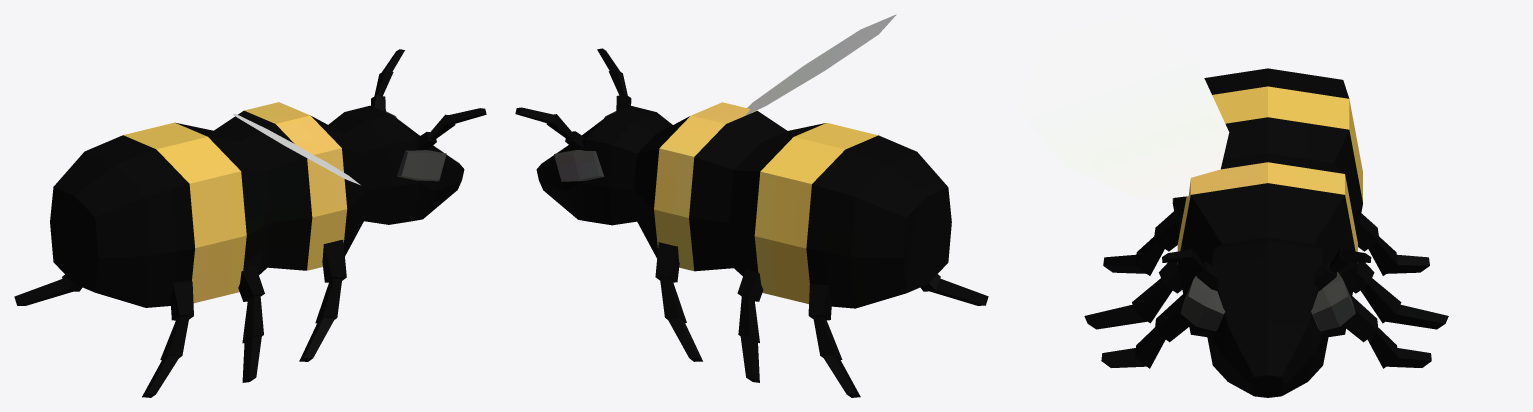
The model's file is 2177F_NMT--.glb.
The picture shows the model from 3 angles, left to right: view 1: azimuth 30°, elevation 25°; view 2: azimuth 150°, elevation 25°; view 3: azimuth 270°, elevation 25°; orthographic projection. The views are drawn at different scales.
Parts seen in each view (by area): view 1: Cube.001_Cube.017; view 2: Cube.001_Cube.017; view 3: Cube.001_Cube.017.
Part boxes in pixels (x1,y1,x2,y2): Cube.001_Cube.017: (14, 49, 486, 397); Cube.001_Cube.017: (515, 14, 988, 397); Cube.001_Cube.017: (1017, 14, 1448, 397).
Bounding box in the file's own units: 1.57 × 0.9999 × 1.45.
1 material, 1 textured.
